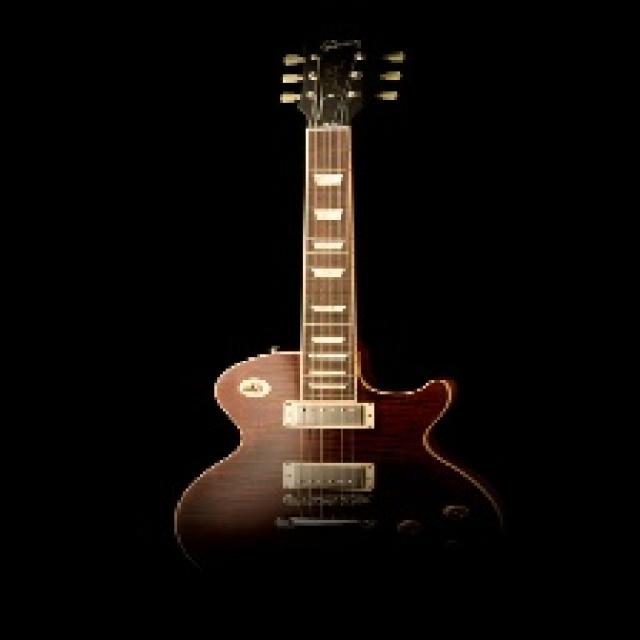guitar: (166, 32, 517, 597)
